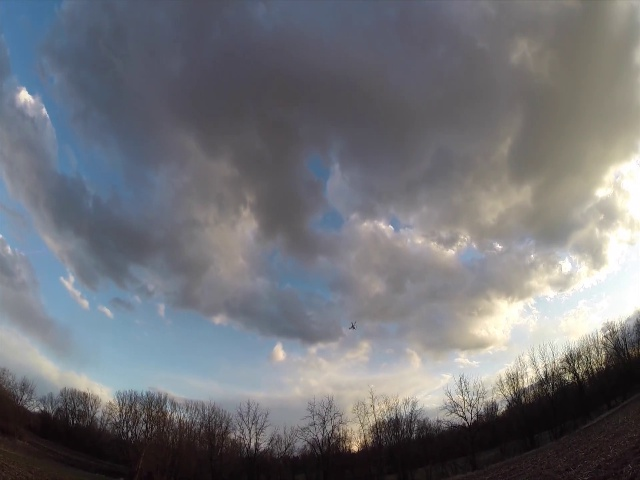drone: (348, 320, 360, 331)
